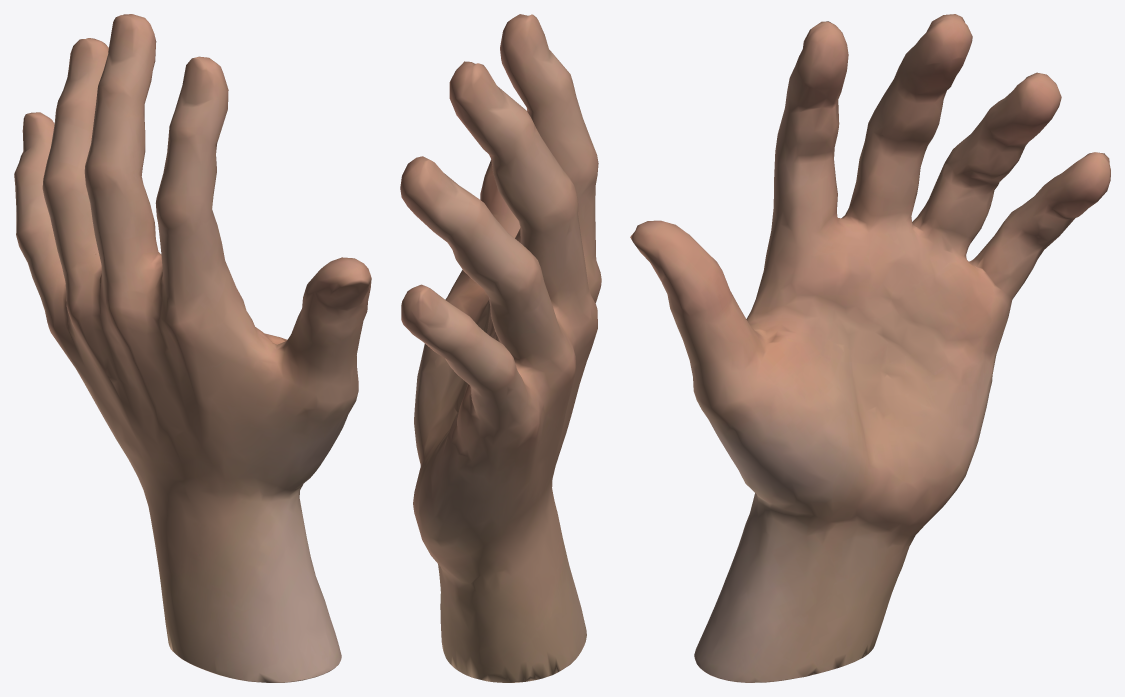
The model's file is palm-b.glb.
3 views of the same model, side by side, from view 1: azimuth 30°, elevation 25°; view 2: azimuth 150°, elevation 25°; view 3: azimuth 270°, elevation 25° (orthographic). The views are drawn at different scales.
Visible parts, largest first — view 1: tripo_node_e8c74a42-74de-498e-b598-8769fdf49341; view 2: tripo_node_e8c74a42-74de-498e-b598-8769fdf49341; view 3: tripo_node_e8c74a42-74de-498e-b598-8769fdf49341.
Boxes of the visible parts, x1,y1,x2,y2 form: tripo_node_e8c74a42-74de-498e-b598-8769fdf49341: (14,14,371,682); tripo_node_e8c74a42-74de-498e-b598-8769fdf49341: (400,14,601,682); tripo_node_e8c74a42-74de-498e-b598-8769fdf49341: (630,14,1110,682).
Size of the model in its own units: 0.3571 by 1 by 0.7126.
Materials: 1 (1 with a texture image).
